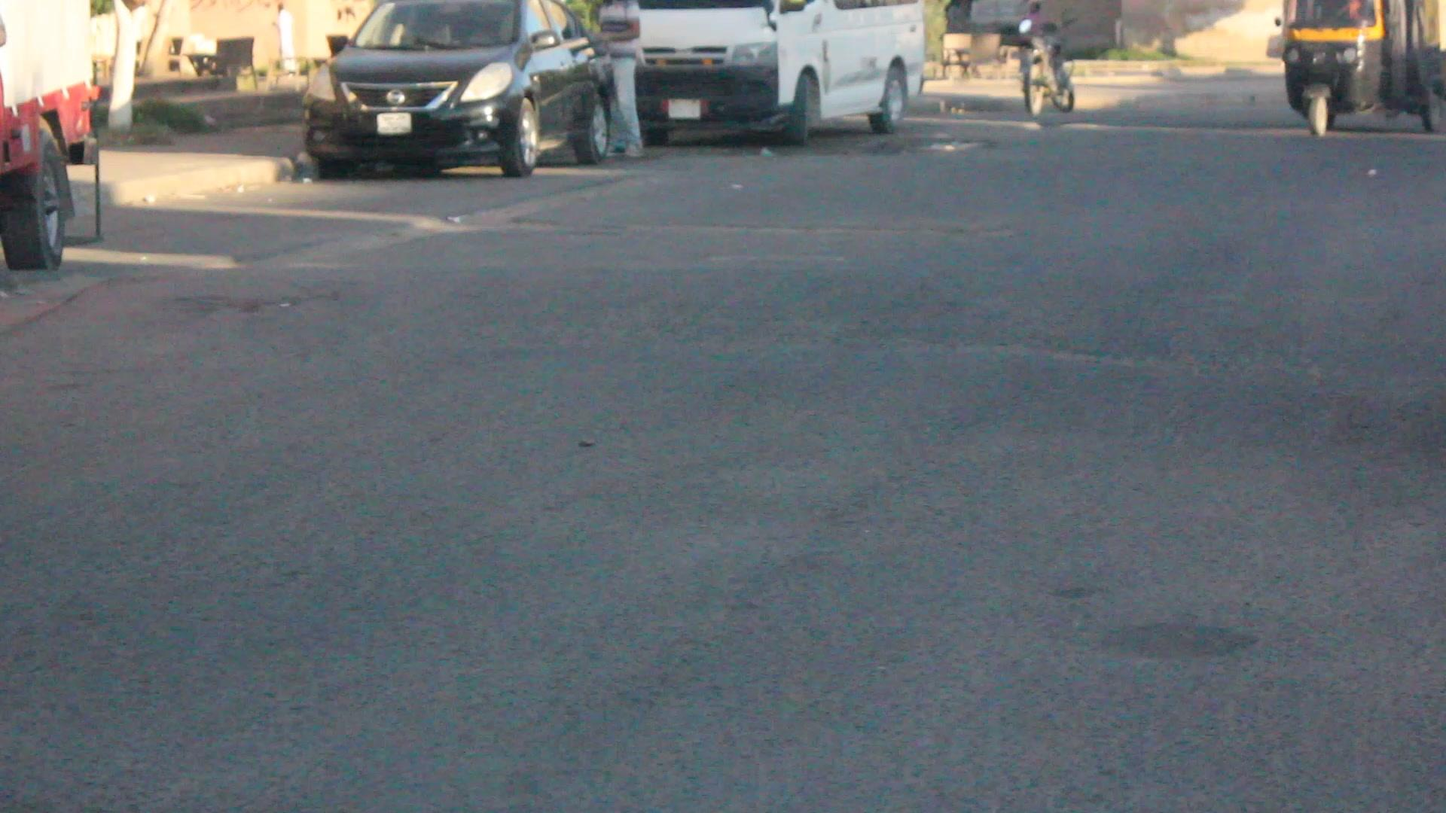Bump: (151, 365, 1446, 491)
Pothole: (951, 316, 1213, 397), (196, 288, 334, 318)
